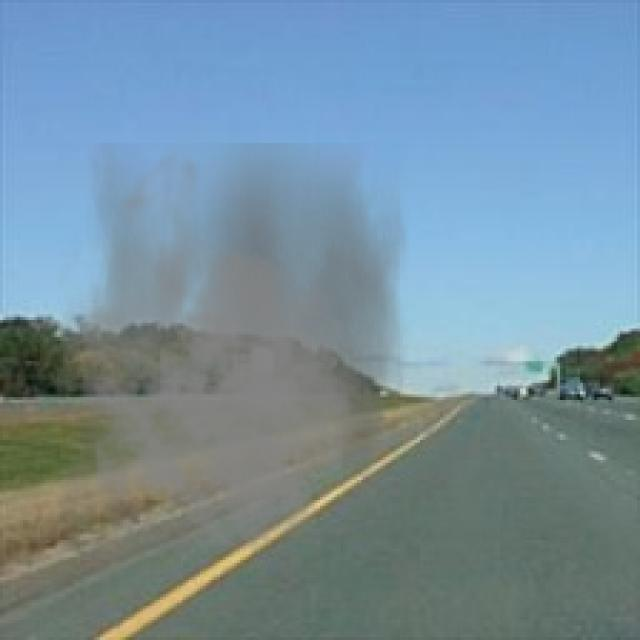smoke: (57, 143, 409, 560)
